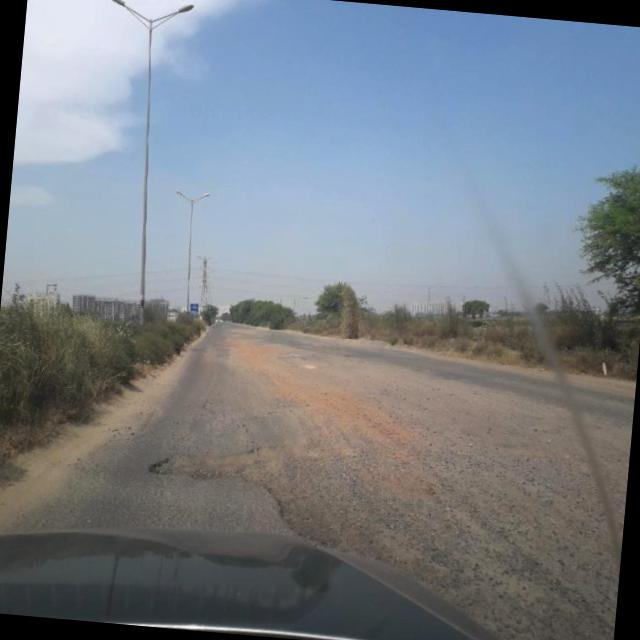pothole: (145, 356, 634, 574)
